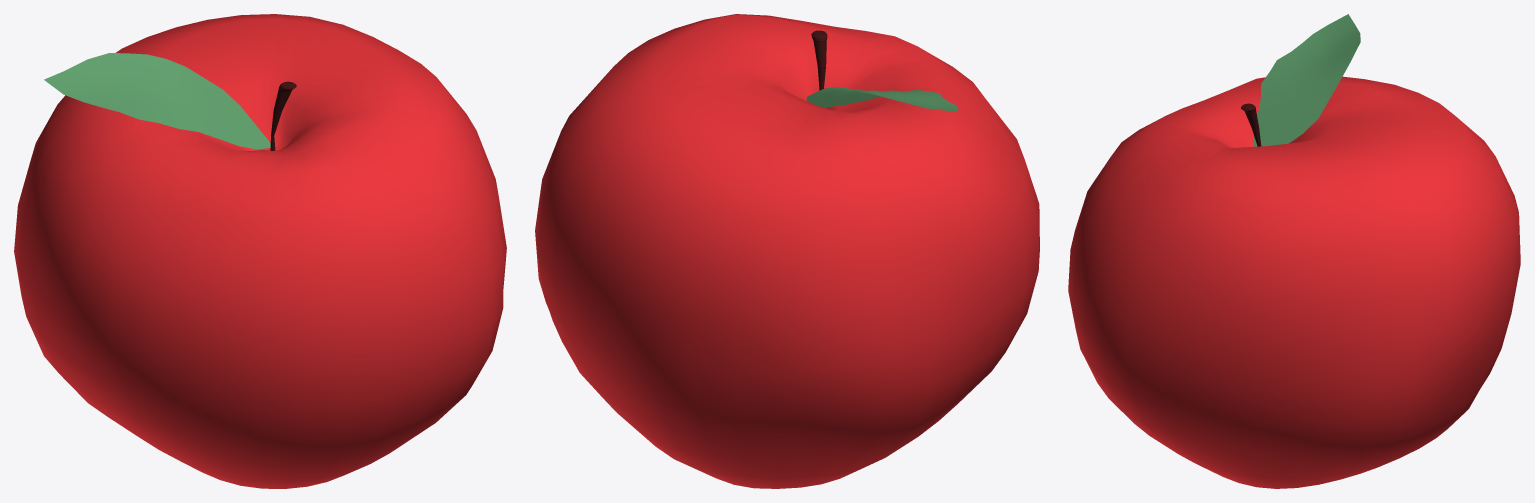
Rendered from Apple.fbx.
3 views of the same model, side by side, from view 1: azimuth 30°, elevation 25°; view 2: azimuth 150°, elevation 25°; view 3: azimuth 270°, elevation 25° (orthographic). The views are drawn at different scales.
Visible parts, largest first — view 1: Sphere.001; view 2: Sphere.001; view 3: Sphere.001.
Boxes of the visible parts, x1,y1,x2,y2 form: Sphere.001: (14,14,506,488); Sphere.001: (535,14,1039,488); Sphere.001: (1068,14,1520,488).
Bounding box in the file's own units: 561 × 525 × 594.
